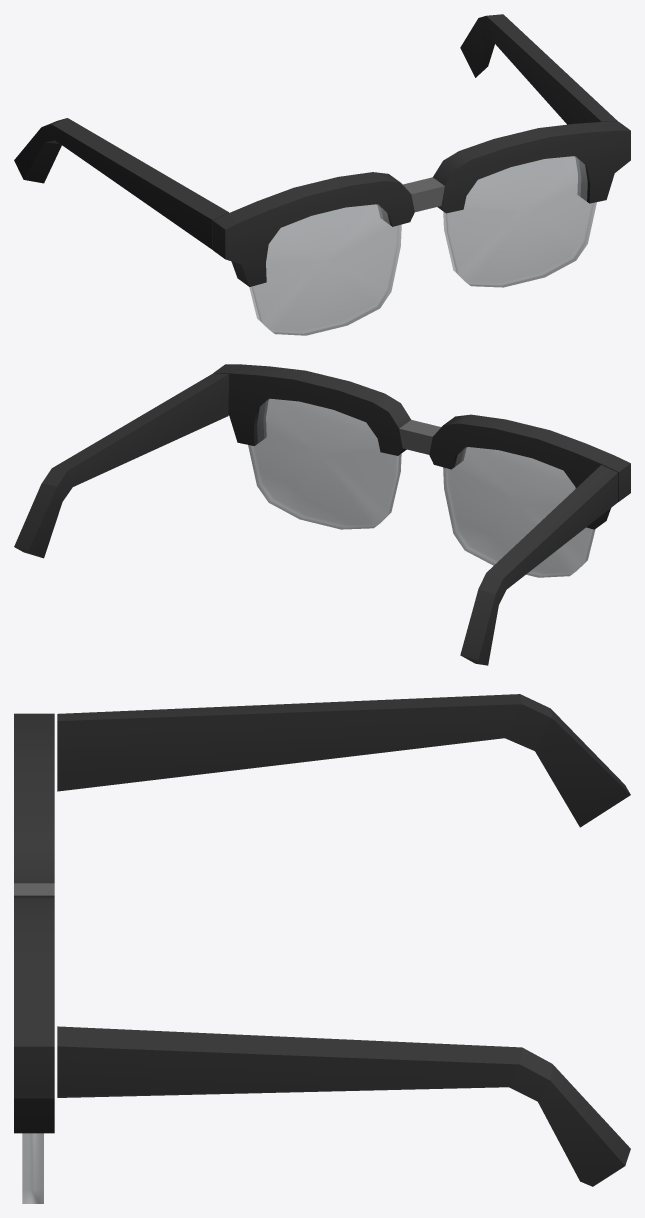
Rendered from Eyewear_3.fbx.
3 renders of one model, top to bottom at view 1: azimuth 30°, elevation 25°; view 2: azimuth 150°, elevation 25°; view 3: azimuth 270°, elevation 25°, orthographic. The views are drawn at different scales.
Visible parts, largest first — view 1: Eyewear_3; view 2: Eyewear_3; view 3: Eyewear_3.
Part boxes in pixels (bbox=[...]): Eyewear_3: bbox=[14, 14, 630, 335]; Eyewear_3: bbox=[14, 364, 630, 665]; Eyewear_3: bbox=[14, 694, 630, 1203].
Size of the model in its own units: 55 by 16.02 by 37.64.
